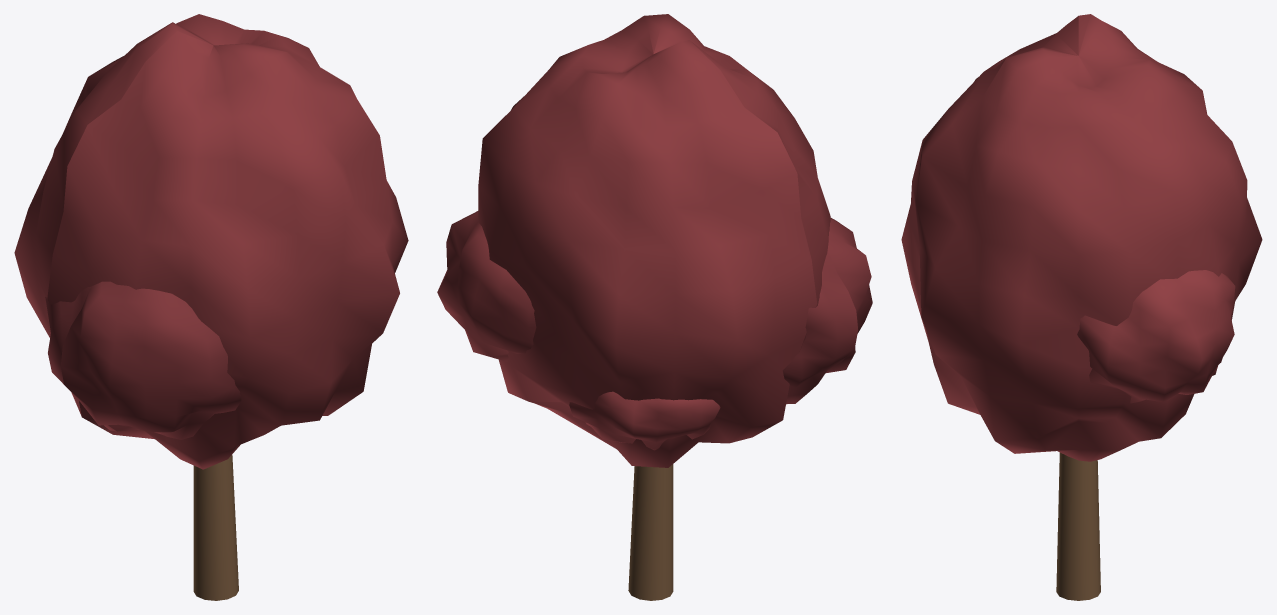
The model's file is crimson-snow-osz.glb.
3 views of the same model, side by side, from view 1: azimuth 30°, elevation 25°; view 2: azimuth 150°, elevation 25°; view 3: azimuth 270°, elevation 25° (orthographic). The views are drawn at different scales.
Visible parts, largest first — view 1: korona-1, korona-2, torzs; view 2: korona-1, korona-3, korona-2, torzs, korona-5; view 3: korona-1, korona-3, torzs.
Part boxes in pixels (<box>): korona-1: <box>14,14,408,469</box>; korona-2: <box>45,281,241,439</box>; torzs: <box>193,454,238,600</box>; korona-1: <box>478,14,830,467</box>; korona-3: <box>437,211,536,361</box>; korona-2: <box>782,218,872,404</box>; torzs: <box>628,464,673,600</box>; korona-5: <box>569,391,720,450</box>; korona-1: <box>901,14,1262,461</box>; korona-3: <box>1077,270,1235,403</box>; torzs: <box>1056,452,1100,600</box>.
Bounding box in the file's own units: 6.57 × 10.31 × 6.02.
